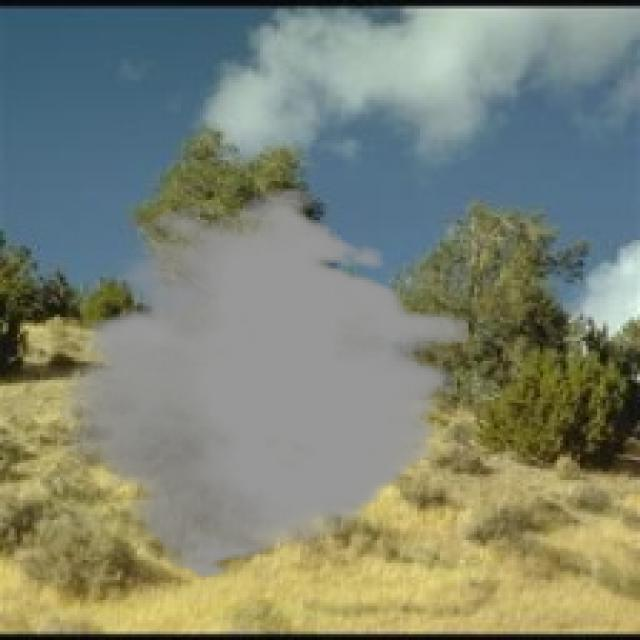smoke: (60, 186, 469, 580)
